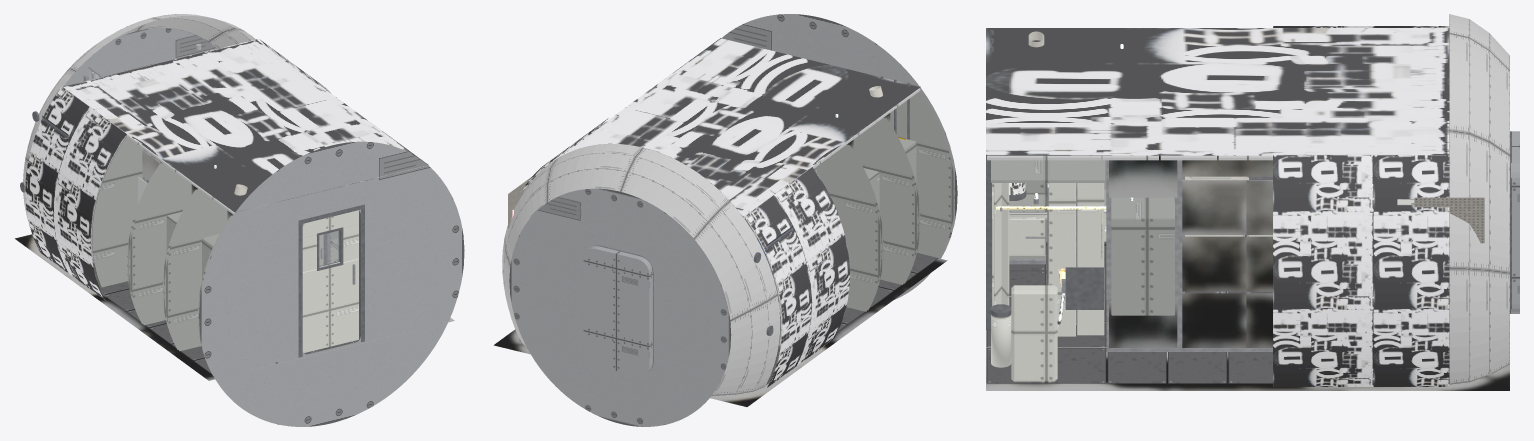
The model's file is living.glb.
The picture shows the model from 3 angles, left to right: view 1: azimuth 30°, elevation 25°; view 2: azimuth 150°, elevation 25°; view 3: azimuth 270°, elevation 25°; orthographic projection. The views are drawn at different scales.
Parts seen in each view (by area): view 1: HAB_l_shell, HAB_l_rack, HAB_l_door, HAB_equip, HAB_l_struct, HAB_l_floor, DOOR_PARTITION__hab_glass; view 2: HAB_l_shell, HAB_l_rack, HAB_equip, HAB_l_floor, HAB_l_struct; view 3: HAB_l_shell, HAB_equip, HAB_l_rack, HAB_l_floor, HAB_l_struct.
Part boxes in pixels (x1=…): HAB_l_shell: x1=23, y1=14, x2=464, y2=426; HAB_l_rack: x1=92, y1=137, x2=437, y2=375; HAB_l_door: x1=302, y1=210, x2=358, y2=352; HAB_equip: x1=15, y1=43, x2=454, y2=380; HAB_l_struct: x1=20, y1=67, x2=364, y2=363; HAB_l_floor: x1=102, y1=281, x2=358, y2=374; DOOR_PARTITION__hab_glass: x1=320, y1=231, x2=339, y2=266; HAB_l_shell: x1=502, y1=14, x2=957, y2=426; HAB_l_rack: x1=519, y1=92, x2=955, y2=342; HAB_equip: x1=494, y1=113, x2=947, y2=406; HAB_l_floor: x1=745, y1=219, x2=938, y2=373; HAB_l_struct: x1=511, y1=76, x2=909, y2=369; HAB_l_shell: x1=986, y1=14, x2=1519, y2=386; HAB_equip: x1=986, y1=44, x2=1509, y2=390; HAB_l_rack: x1=991, y1=155, x2=1491, y2=381; HAB_l_floor: x1=986, y1=235, x2=1272, y2=383; HAB_l_struct: x1=986, y1=30, x2=1511, y2=351.
Bounding box in the file's own units: 4.16 × 4.1 × 5.3.
48 materials, 29 textured.
